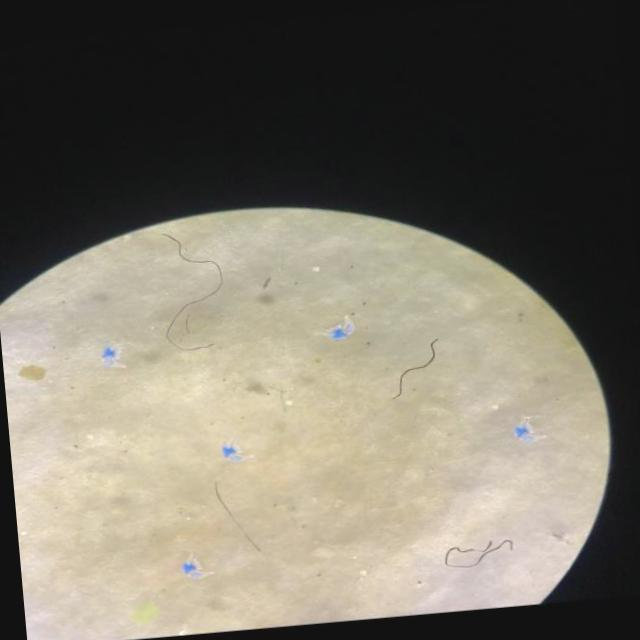fiber: (162, 232, 223, 349), (214, 483, 261, 551), (394, 337, 439, 399), (444, 537, 514, 568)
film: (513, 416, 544, 442), (322, 316, 353, 339), (182, 570, 214, 579), (100, 355, 121, 366)
fragment: (134, 603, 158, 623), (19, 365, 46, 381)
pellet: (491, 404, 498, 409), (313, 266, 320, 271), (286, 399, 292, 404)
